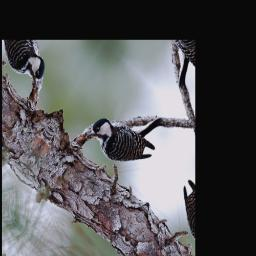Woodpecker: (82, 77, 170, 186)
